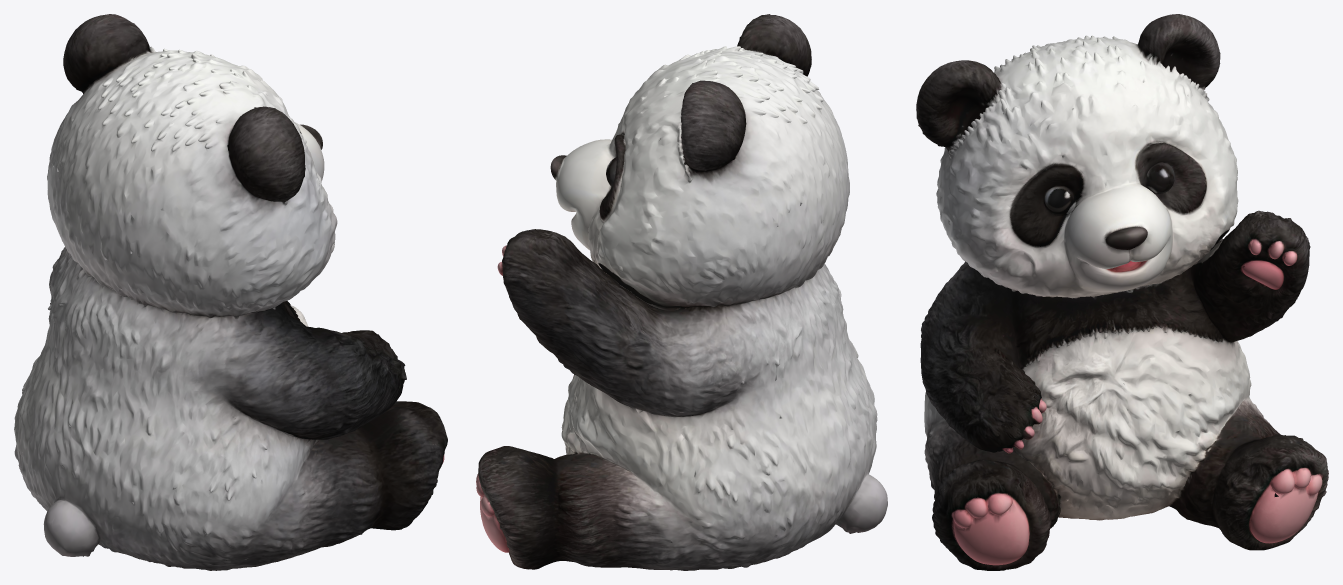
The model's file is panda-bao.glb.
3 renders of one model, left to right at view 1: azimuth 30°, elevation 25°; view 2: azimuth 150°, elevation 25°; view 3: azimuth 270°, elevation 25°, orthographic. The views are drawn at different scales.
Visible parts, largest first — view 1: node_68a7f310-9292-4ae6-9a48-e9b1981f51ef; view 2: node_68a7f310-9292-4ae6-9a48-e9b1981f51ef; view 3: node_68a7f310-9292-4ae6-9a48-e9b1981f51ef.
Part boxes in pixels (x1=…): node_68a7f310-9292-4ae6-9a48-e9b1981f51ef: x1=14, y1=14, x2=447, y2=570; node_68a7f310-9292-4ae6-9a48-e9b1981f51ef: x1=476, y1=14, x2=887, y2=570; node_68a7f310-9292-4ae6-9a48-e9b1981f51ef: x1=916, y1=14, x2=1328, y2=570.
Size of the model in its own units: 0.7651 by 1 by 0.8123.
Materials: 1 (1 with a texture image).
